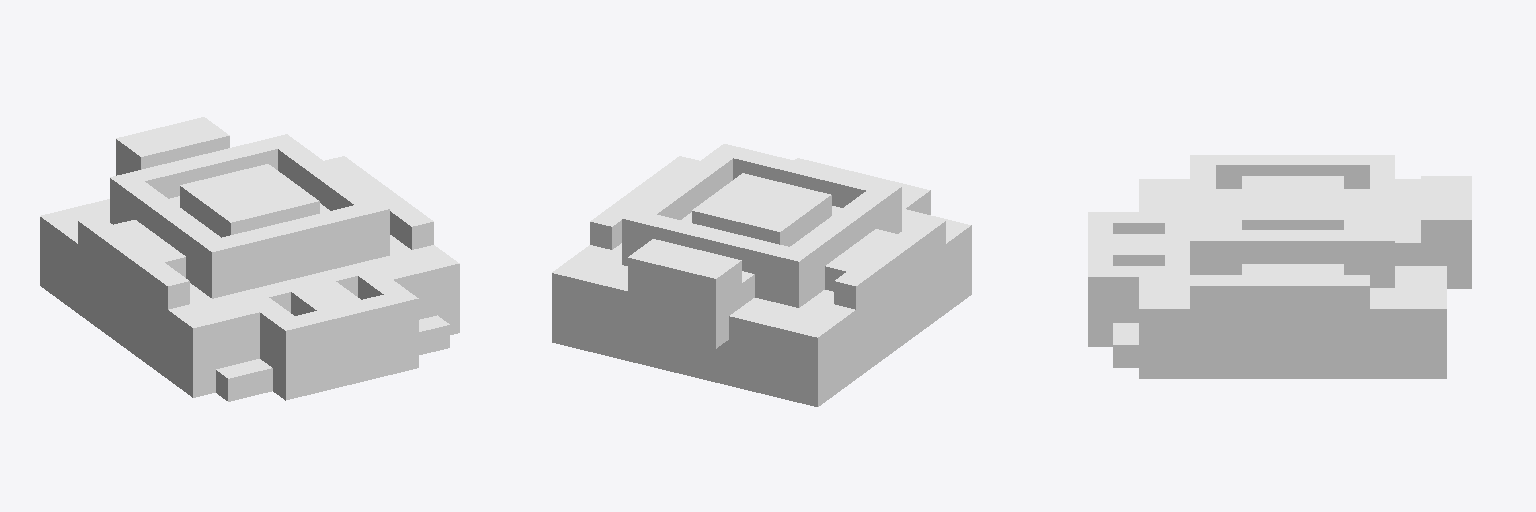
The model's file is enemy_mine.obj.
The picture shows the model from 3 angles: view 1: azimuth 30°, elevation 25°; view 2: azimuth 150°, elevation 25°; view 3: azimuth 270°, elevation 25°; orthographic projection.
Parts seen in each view (by area): view 1: object 1; view 2: object 1; view 3: object 1.
Part boxes in pixels (x1,y1,x2,y2): object 1: (40, 117, 459, 401); object 1: (552, 144, 971, 406); object 1: (1088, 155, 1471, 378).
Size of the model in its own units: 1.2 by 0.5 by 1.5.